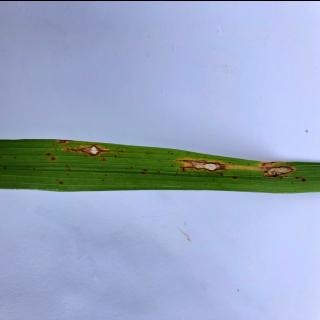Blast: (174, 154, 228, 173), (64, 142, 112, 158), (262, 162, 299, 178), (294, 172, 308, 185), (54, 136, 70, 146), (54, 176, 66, 186), (44, 148, 54, 156), (49, 154, 58, 162)
